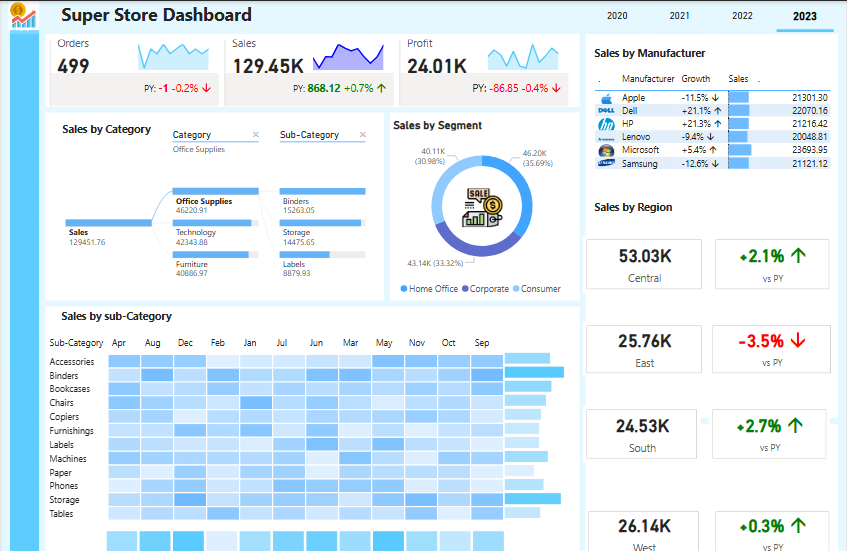

The dashboard page shown, as its layout file describes it:
{"tool":"powerbi","page":{"name":"Page 1","canvas":[1280,900],"ordinal":0},"visuals":[{"type":"advancedSlicerVisual","fields":{"Values":["Calendar.Year"]},"box":[883.6,0,384.7,62.2],"z":0},{"type":"cardVisual","fields":{"Data":["All Measures.Orders","All Measures.Sales","All Measures.Profit"]},"box":[67.2,62.2,799.6,112.5],"z":1000},{"type":"decompositionTreeVisual","fields":{"Analyze":["All Measures.Sales"],"ExplainBy":["dimSubCategory.Category","dimSubCategory.Sub-Category"]},"box":[67.2,186.5,505.6,263.7],"z":2000},{"type":"donutChart","fields":{"Category":["dimSegment.Segment"],"Y":["All Measures.Sales"]},"box":[587.9,186.5,278.8,277.2],"z":3000},{"type":"cardVisual","fields":{"Data":["All Measures.Sales"]},"box":[880,365,185,86.7],"z":4000},{"type":"cardVisual","fields":{"Data":["All Measures.Sales"]},"box":[880,495,185,83.3],"z":5000},{"type":"cardVisual","fields":{"Data":["All Measures.Sales"]},"box":[880,623.3,178.3,85],"z":6000},{"type":"cardVisual","fields":{"Data":["All Measures.Sales"]},"box":[883.3,776.7,178.3,78.3],"z":7000},{"type":"cardVisual","fields":{"Data":["All Measures.Sales Growth Arrow"]},"box":[1075,365,183.3,86.7],"z":8000},{"type":"cardVisual","fields":{"Data":["All Measures.Sales Growth Arrow"]},"box":[1071.7,495,190,83.3],"z":9000},{"type":"cardVisual","fields":{"Data":["All Measures.Sales Growth Arrow"]},"box":[1071.7,623.3,183.3,85],"z":10000},{"type":"cardVisual","fields":{"Data":["All Measures.Sales Growth Arrow"]},"box":[1075,776.7,183.3,78.3],"z":11000},{"type":"textbox","box":[85.7,185.7,171.4,51.8],"z":12000},{"type":"textbox","box":[891.7,305,138.3,38.3],"z":13000},{"type":"textbox","box":[84.9,469.3,202.4,41.6],"z":14000},{"type":"pivotTable","fields":{"Rows":["dimSubCategory.Sub-Category"],"Columns":["Calendar.Month"],"Values":["All Measures.Sales"]},"box":[61.4,511.4,710.2,289.2],"z":15000},{"type":"clusteredBarChart","fields":{"Y":["All Measures.Sales"],"Category":["dimSubCategory.Sub-Category"]},"box":[755.4,529,128.3,269.3],"z":16000},{"type":"clusteredColumnChart","fields":{"Category":["Calendar.Month"],"Y":["All Measures.Sales"]},"box":[153.6,798.8,612.7,101.2],"z":17000},{"type":"textbox","box":[891.7,71.7,201.7,40],"z":18000},{"type":"tableEx","fields":{"Values":["dimManufacturer.img","dimManufacturer.Manufacturer","All Measures.Sales Growth Arrow","All Measures.Sales Bar","All Measures.Sales"]},"box":[891.7,111.7,368.3,176.7],"z":19000},{"type":"textbox","box":[67.9,5.4,332.1,57.1],"z":20000},{"type":"image","box":[689.8,288.1,76.3,69.5],"z":21000},{"type":"image","box":[5,5,57.1,53.8],"z":23000}]}

Visuals, with their boxes on the page's 1280x900 design canvas (x1, y1, x2, y2). These are canvas units, not pixel positions in the 847x551 screenshot, which may show the page scaled, cropped or inside an application window:
advancedSlicerVisual - Calendar.Year: (884, 0, 1268, 62)
cardVisual - All Measures.Orders x All Measures.Sales: (67, 62, 867, 175)
decompositionTreeVisual - All Measures.Sales x dimSubCategory.Category: (67, 186, 573, 450)
donutChart - dimSegment.Segment x All Measures.Sales: (588, 186, 867, 464)
cardVisual - All Measures.Sales: (880, 365, 1065, 452)
cardVisual - All Measures.Sales: (880, 495, 1065, 578)
cardVisual - All Measures.Sales: (880, 623, 1058, 708)
cardVisual - All Measures.Sales: (883, 777, 1062, 855)
cardVisual - All Measures.Sales Growth Arrow: (1075, 365, 1258, 452)
cardVisual - All Measures.Sales Growth Arrow: (1072, 495, 1262, 578)
cardVisual - All Measures.Sales Growth Arrow: (1072, 623, 1255, 708)
cardVisual - All Measures.Sales Growth Arrow: (1075, 777, 1258, 855)
textbox: (86, 186, 257, 238)
textbox: (892, 305, 1030, 343)
textbox: (85, 469, 287, 511)
pivotTable - dimSubCategory.Sub-Category x Calendar.Month: (61, 511, 772, 801)
clusteredBarChart - All Measures.Sales x dimSubCategory.Sub-Category: (755, 529, 884, 798)
clusteredColumnChart - Calendar.Month x All Measures.Sales: (154, 799, 766, 900)
textbox: (892, 72, 1093, 112)
tableEx - dimManufacturer.img x dimManufacturer.Manufacturer: (892, 112, 1260, 288)
textbox: (68, 5, 400, 62)
image: (690, 288, 766, 358)
image: (5, 5, 62, 59)
